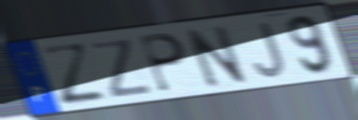9: (286, 13, 337, 77)
J: (251, 20, 288, 80)
N: (182, 23, 251, 91)
P: (137, 31, 190, 95)
Z: (37, 41, 111, 109), (88, 37, 156, 101)
